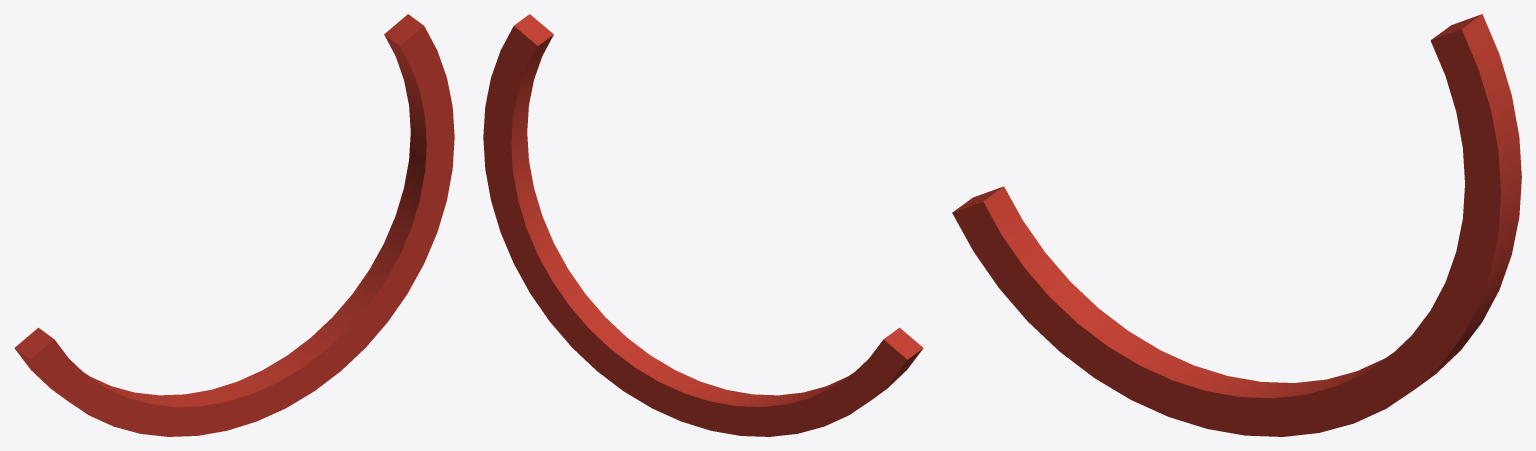
The model's file is magnetic_separator_magnetic_field.glb.
The picture shows the model from 3 angles, left to right: view 1: azimuth 30°, elevation 25°; view 2: azimuth 150°, elevation 25°; view 3: azimuth 330°, elevation 25°; orthographic projection. The views are drawn at different scales.
Visible parts, largest first — view 1: mf; view 2: mf; view 3: mf.
Boxes of the visible parts, box(x1,y1,x2,y2) form: mf: box(14, 14, 454, 436); mf: box(483, 14, 923, 436); mf: box(952, 14, 1521, 436).
Bounding box in the file's own units: 0.9144 × 0.735 × 0.06.
